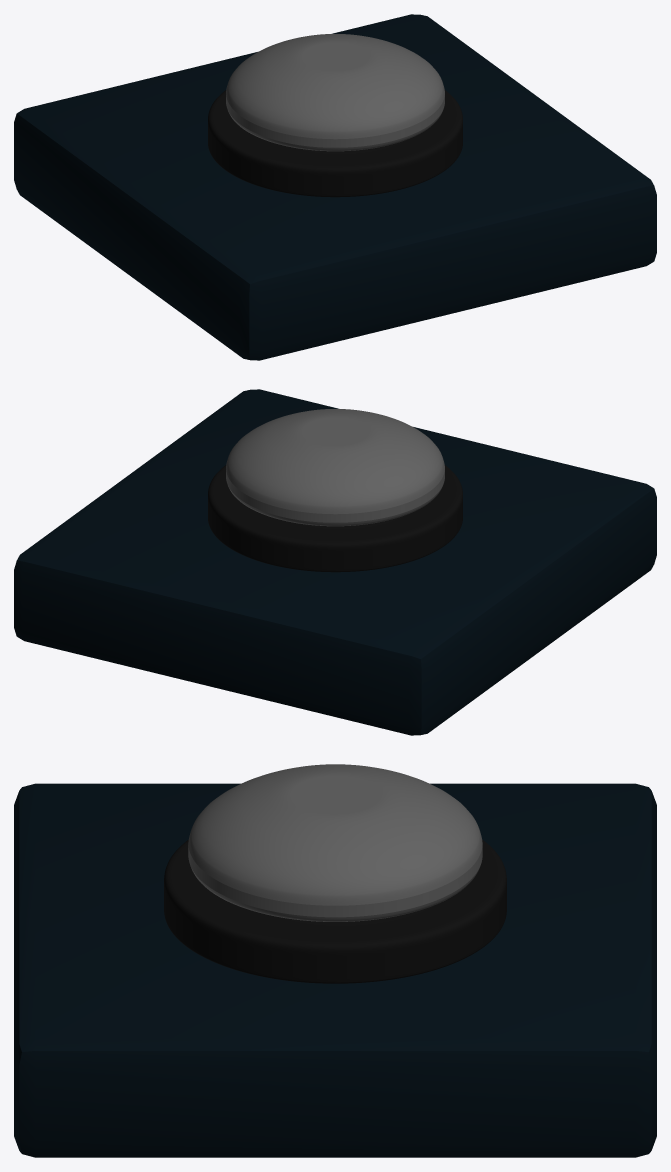
The model's file is button.FBX.
The picture shows the model from 3 angles, top to bottom: view 1: azimuth 30°, elevation 25°; view 2: azimuth 150°, elevation 25°; view 3: azimuth 270°, elevation 25°; orthographic projection. The views are drawn at different scales.
Visible parts, largest first — view 1: drone_security, button_top, button_base; view 2: drone_security, button_top, button_base; view 3: drone_security, button_top, button_base.
Boxes of the visible parts, x1,y1,x2,y2 form: drone_security: (14,14,656,360); button_top: (226,34,444,151); button_base: (208,90,462,197); drone_security: (14,389,656,735); button_top: (226,409,444,526); button_base: (208,465,462,572); drone_security: (14,783,656,1157); button_top: (188,764,482,921); button_base: (164,840,506,983).
Size of the model in its own units: 150 by 60.24 by 150.
